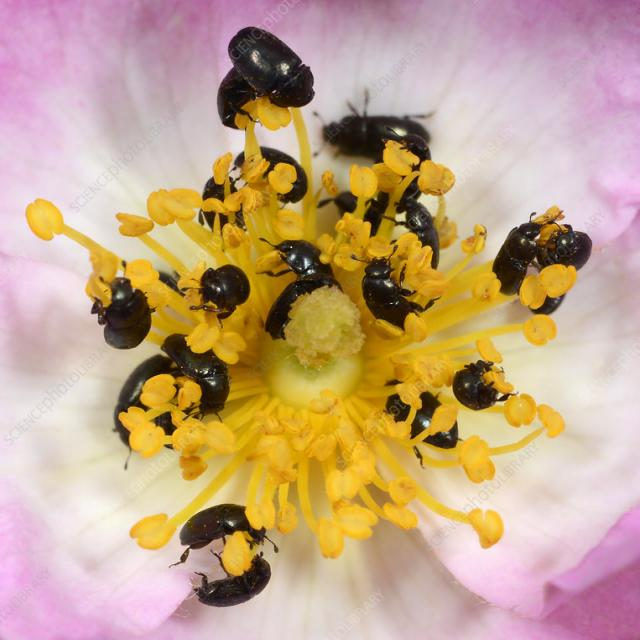pollen_beetle: (204, 10, 322, 136), (485, 200, 593, 316), (172, 495, 278, 613), (254, 222, 341, 344), (351, 244, 427, 341), (79, 266, 153, 360), (177, 250, 258, 328)
